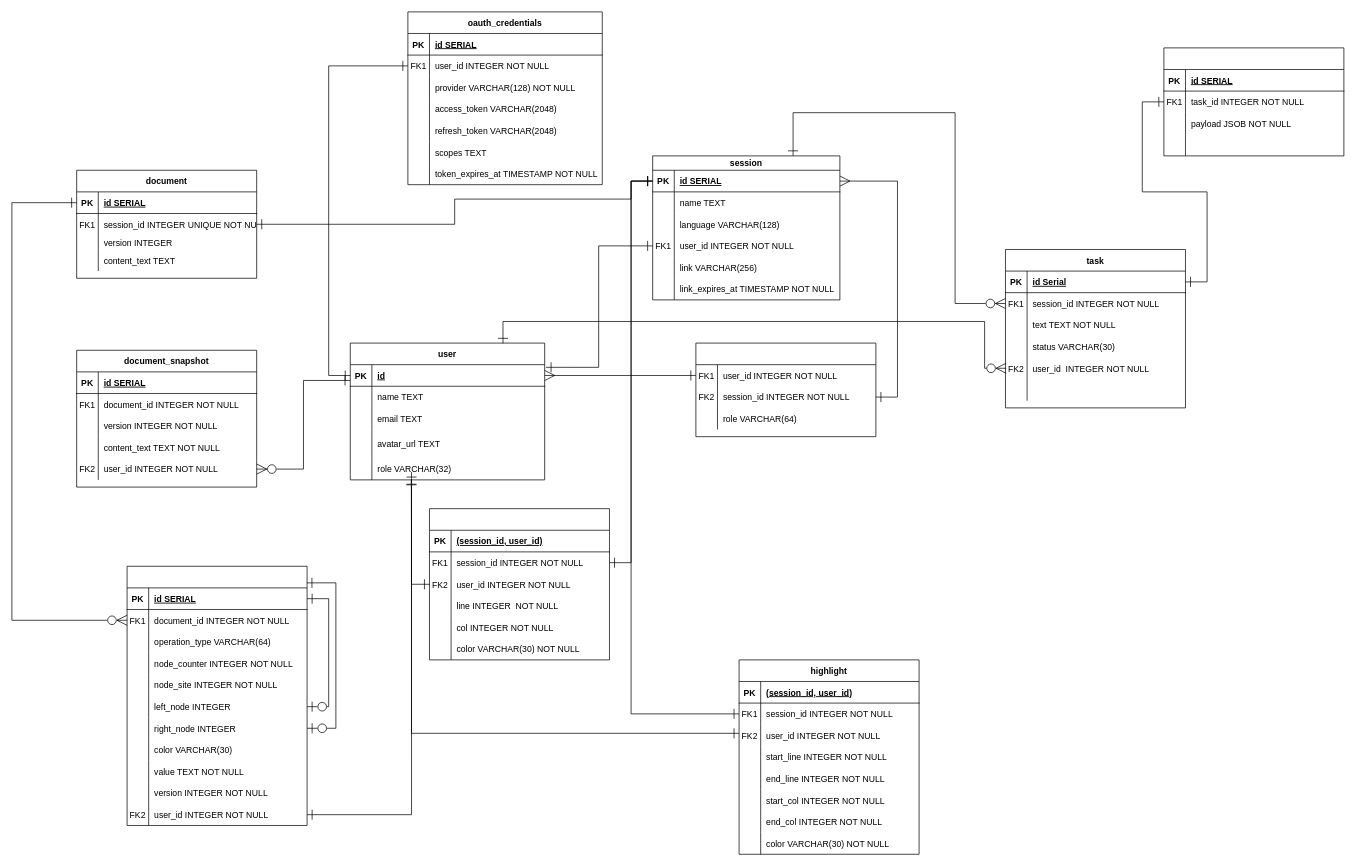
The diagram is 1356 pixels wide and 866 high, and some of its shapes have lost their labels. Each missing label, with the box of its shape:
cursor_state: (429, 508, 609, 660)
document_operation: (126, 566, 307, 825)
task_data: (1163, 47, 1344, 156)
user_session: (695, 342, 876, 437)
